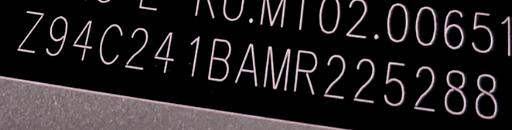letter: (260, 42, 292, 90), (379, 57, 409, 106), (409, 63, 439, 112), (468, 69, 498, 118), (15, 9, 45, 54), (350, 53, 378, 101), (176, 32, 206, 76), (320, 51, 348, 98), (98, 19, 126, 65), (232, 40, 260, 86), (292, 47, 320, 93), (440, 66, 466, 115), (148, 30, 176, 75), (124, 25, 150, 71), (208, 35, 232, 81), (71, 17, 95, 62), (45, 14, 69, 55)
